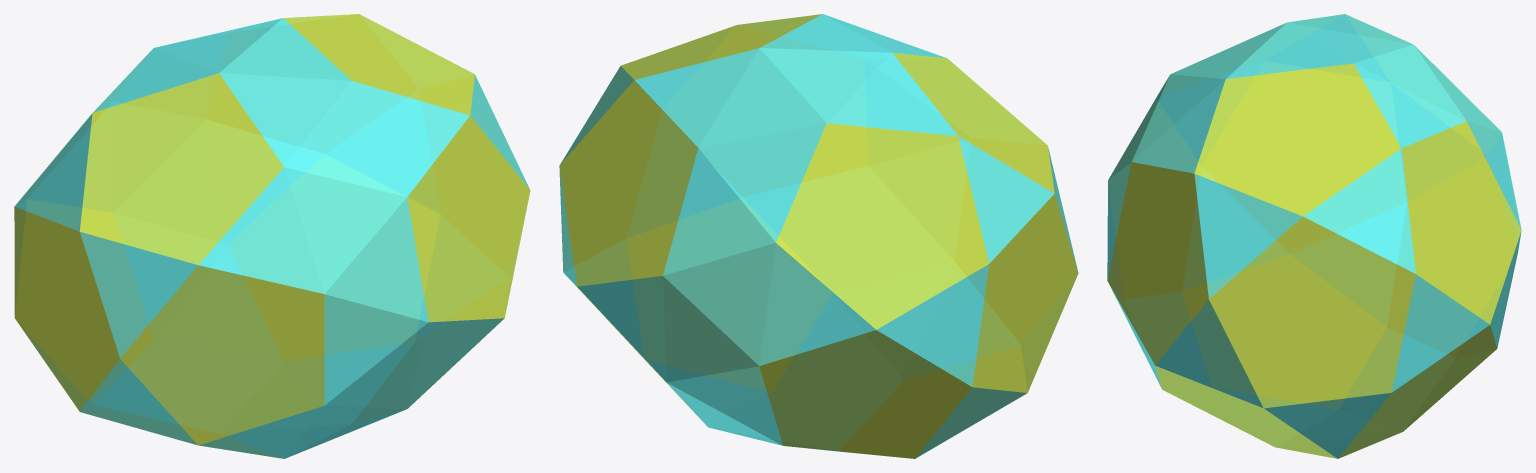
Rendered from j48_gyroelongated_pentagonal_birotunda.obj.
The picture shows the model from 3 angles, left to right: view 1: azimuth 30°, elevation 25°; view 2: azimuth 150°, elevation 25°; view 3: azimuth 270°, elevation 25°; orthographic projection. The views are drawn at different scales.
Bounding box in the file's own units: 2.05 × 1.79 × 1.77.
